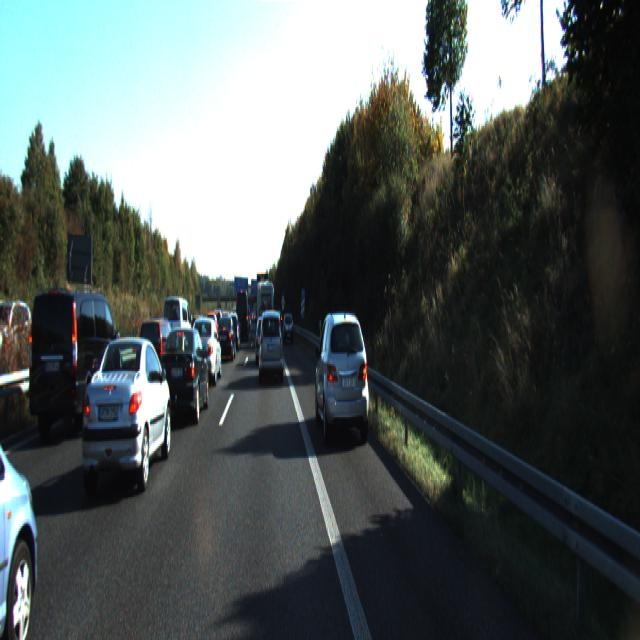Car: (79, 331, 176, 501), (26, 285, 126, 442), (0, 332, 50, 638), (314, 309, 370, 448), (159, 322, 210, 427), (136, 315, 179, 388), (188, 314, 222, 386), (162, 294, 193, 365), (260, 308, 285, 385), (258, 279, 274, 344), (216, 313, 236, 361), (237, 289, 250, 342), (225, 312, 241, 351), (283, 312, 294, 342)
